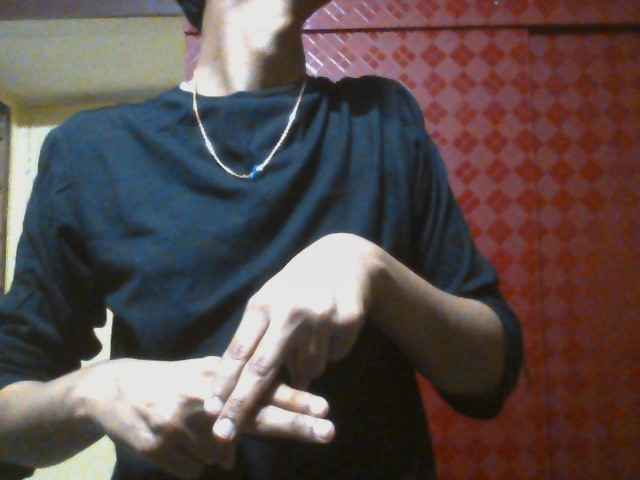F: (118, 274, 340, 478)
